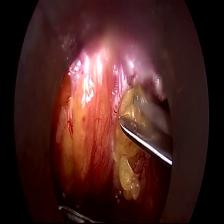Scissors: (118, 85, 174, 172)
